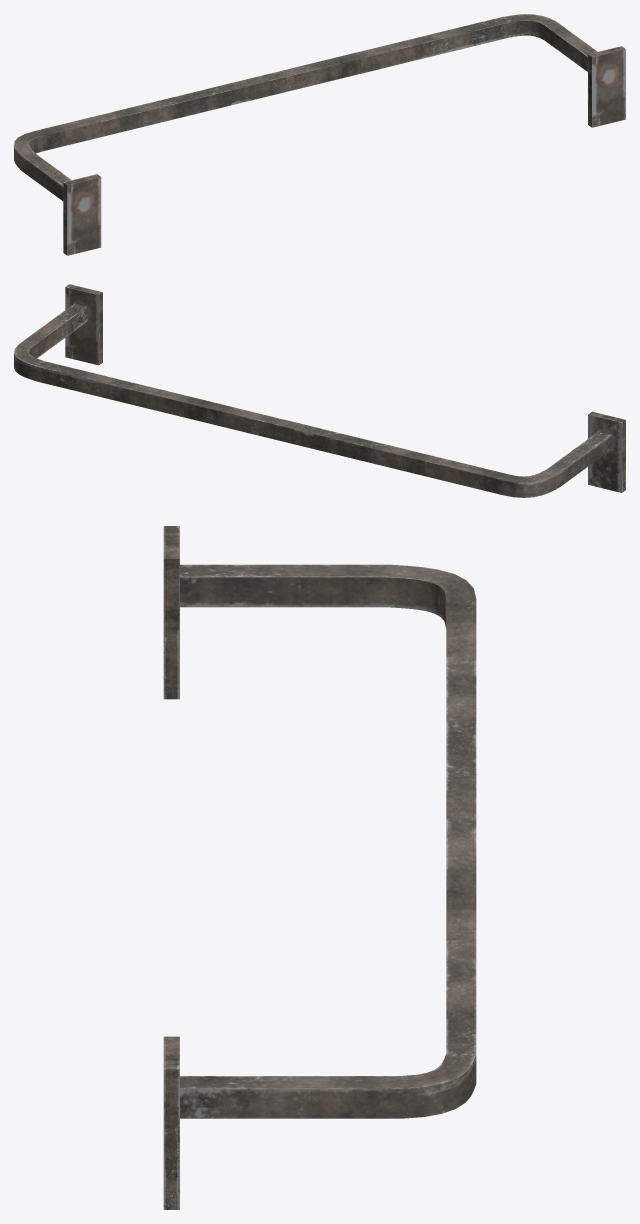
Rendered from SM_FlagPole01.FBX.
3 views of the same model, one above another, from view 1: azimuth 30°, elevation 25°; view 2: azimuth 150°, elevation 25°; view 3: azimuth 270°, elevation 25° (orthographic). The views are drawn at different scales.
Visible parts, largest first — view 1: SM_FlagPole01; view 2: SM_FlagPole01; view 3: SM_FlagPole01.
Part boxes in pixels (<box>): SM_FlagPole01: <box>14,14,625,255</box>; SM_FlagPole01: <box>14,284,625,497</box>; SM_FlagPole01: <box>163,526,476,1209</box>.
Size of the model in its own units: 475 by 116 by 57.27.
